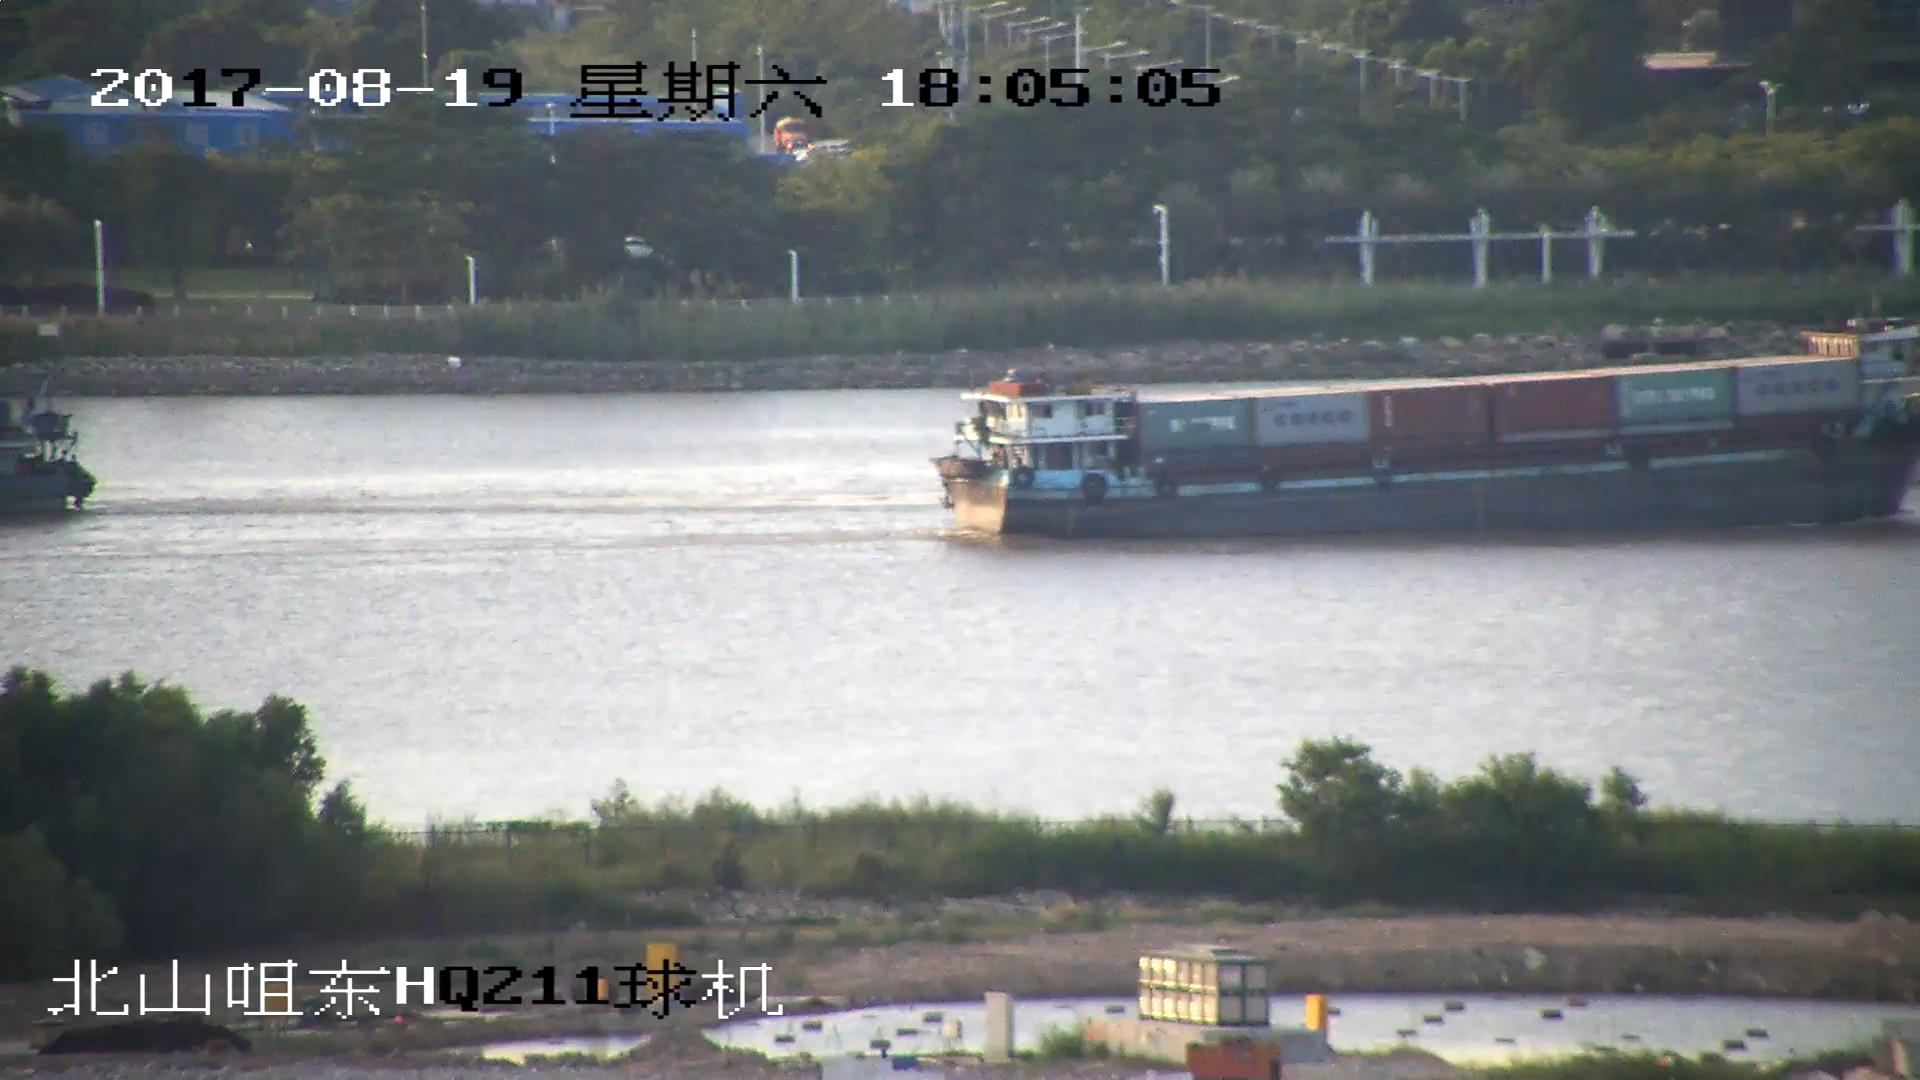container ship: (927, 329, 1920, 538)
